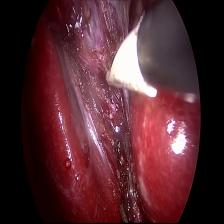Hook: (104, 20, 158, 104)
